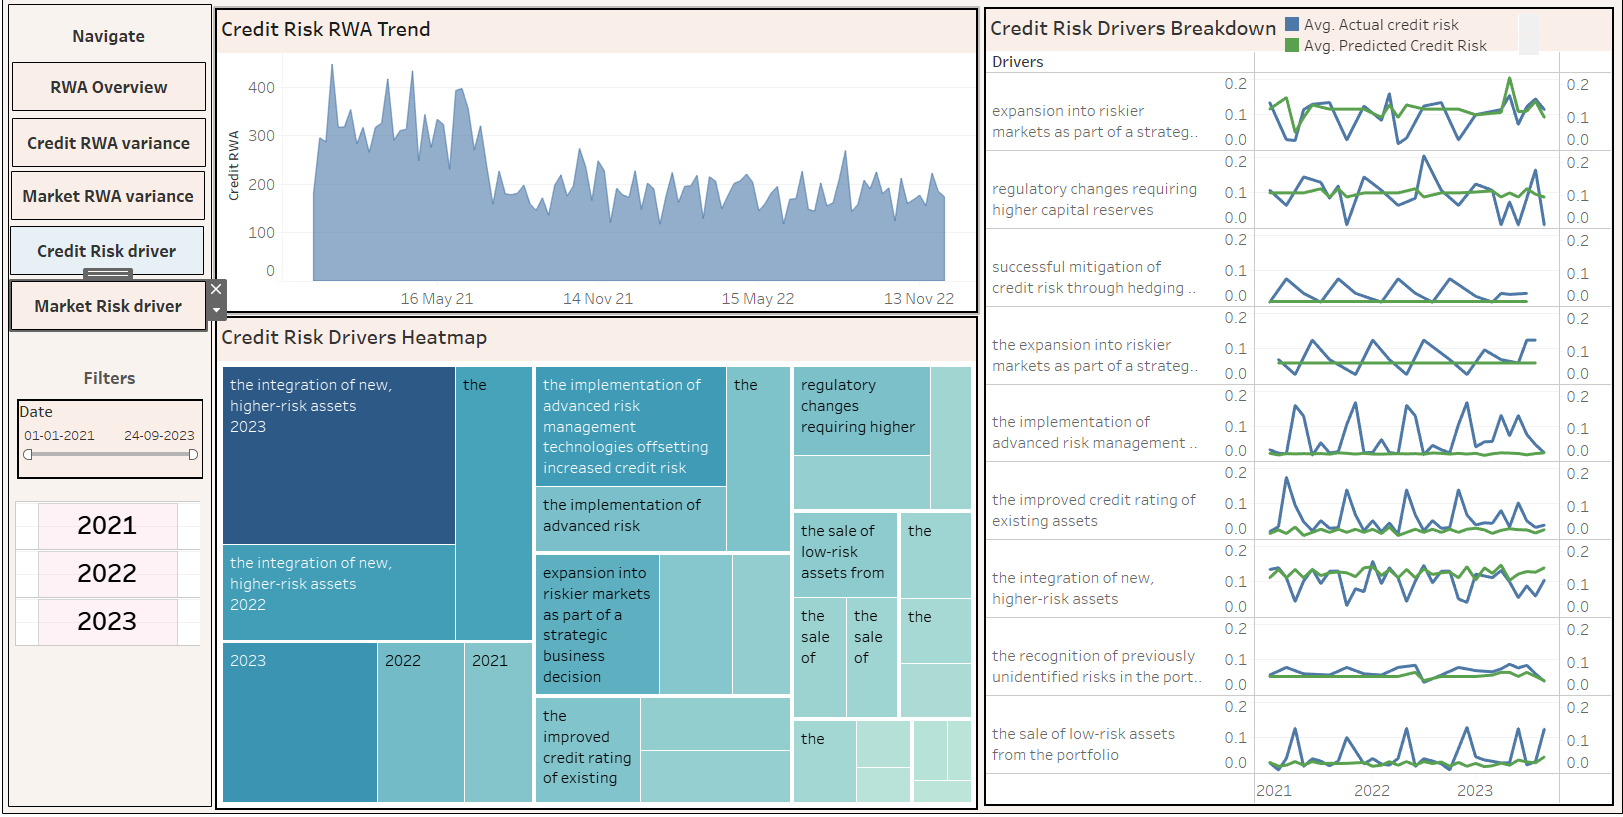

This screenshot's page, from the dashboard's own definition file:
{"tool":"tableau","page":{"name":"credit risk driver","canvas":[1000,1000],"units":"permille","ordinal":3},"visuals":[{"type":"worksheet","title":"Sheet 13","mark":"Automatic","rows":["drivers","Actual credit risk","Predicted_Credit_Risk"],"cols":["date (Sheet11)"],"box":[604.8,19.2,384.9,961.5]},{"type":"worksheet","title":"Sheet 1","mark":"Area","rows":["Credit RWA (millions)"],"cols":["date"],"box":[135,20.5,466.1,367]},{"type":"text","box":[11,27.7,117.9,50.5]},{"type":"legend","title":"Sheet 13","param":"[federated.1azpbkn1w87z051a0ipd91t5uy5k].[:Measure Names]","box":[786.8,27.7,158.2,49.3]},{"type":"dashboard-object","box":[11,85.4,118.5,59]},{"type":"dashboard-object","box":[11,152.8,118.5,59]},{"type":"dashboard-object","box":[10.4,216.6,118.5,59]},{"type":"dashboard-object","box":[9.8,282.8,118.5,59]},{"type":"dashboard-object","box":[10.4,349,119.1,59]},{"type":"worksheet","title":"Sheet 11","mark":"Automatic","box":[135,391.1,466.1,594.5]},{"type":"text","box":[15.9,442.8,109.4,44.5]},{"type":"filter","title":"Sheet 1","param":"[federated.1azpbkn1w87z051a0ipd91t5uy5k].[none:date:qk]","box":[13.9,490.6,113.9,96.2]},{"type":"worksheet","title":"Sheet 15","mark":"Bar","rows":["date","Calculation_119063975733788675"],"box":[12.7,613.9,113.3,174.9]}]}

Visuals, with their boxes on the dashboard's canvas, which has no fixed pixel size, in thousandths of its width and height (x1, y1, x2, y2). These are canvas units, not pixel positions in the 1623x817 screenshot, which may show the page scaled, cropped or inside an application window:
"Sheet 13" worksheet: {"left": 605, "top": 19, "right": 990, "bottom": 981}
"Sheet 1" worksheet (Area marks): {"left": 135, "top": 20, "right": 601, "bottom": 388}
text: {"left": 11, "top": 28, "right": 129, "bottom": 78}
"Sheet 13" legend: {"left": 787, "top": 28, "right": 945, "bottom": 77}
dashboard-object: {"left": 11, "top": 85, "right": 130, "bottom": 144}
dashboard-object: {"left": 11, "top": 153, "right": 130, "bottom": 212}
dashboard-object: {"left": 10, "top": 217, "right": 129, "bottom": 276}
dashboard-object: {"left": 10, "top": 283, "right": 128, "bottom": 342}
dashboard-object: {"left": 10, "top": 349, "right": 130, "bottom": 408}
"Sheet 11" worksheet: {"left": 135, "top": 391, "right": 601, "bottom": 986}
text: {"left": 16, "top": 443, "right": 125, "bottom": 487}
"Sheet 1" filter: {"left": 14, "top": 491, "right": 128, "bottom": 587}
"Sheet 15" worksheet (Bar marks): {"left": 13, "top": 614, "right": 126, "bottom": 789}
